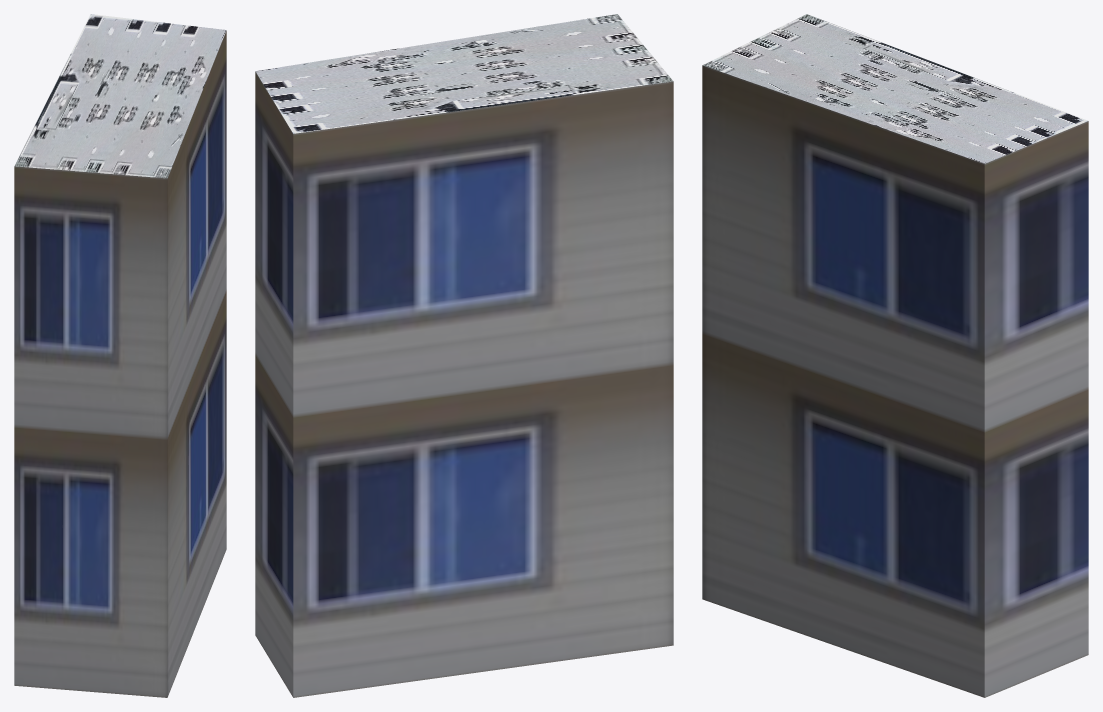
Rendered from ResTex__1163.fbx.
3 renders of one model, left to right at view 1: azimuth 30°, elevation 25°; view 2: azimuth 150°, elevation 25°; view 3: azimuth 270°, elevation 25°, orthographic. The views are drawn at different scales.
Visible parts, largest first — view 1: CityEngineMaterial_23_m, CityEngineMaterial_m; view 2: CityEngineMaterial_23_m, CityEngineMaterial_m; view 3: CityEngineMaterial_23_m, CityEngineMaterial_m.
Part boxes in pixels (x1,y1,x2,y2): CityEngineMaterial_23_m: (14,30,226,697); CityEngineMaterial_m: (14,14,226,178); CityEngineMaterial_23_m: (255,72,673,697); CityEngineMaterial_m: (255,14,673,133); CityEngineMaterial_23_m: (702,65,1088,697); CityEngineMaterial_m: (703,14,1087,163).
Bounding box in the file's own units: 3.61 × 6 × 3.93.
2 materials, 2 textured.
